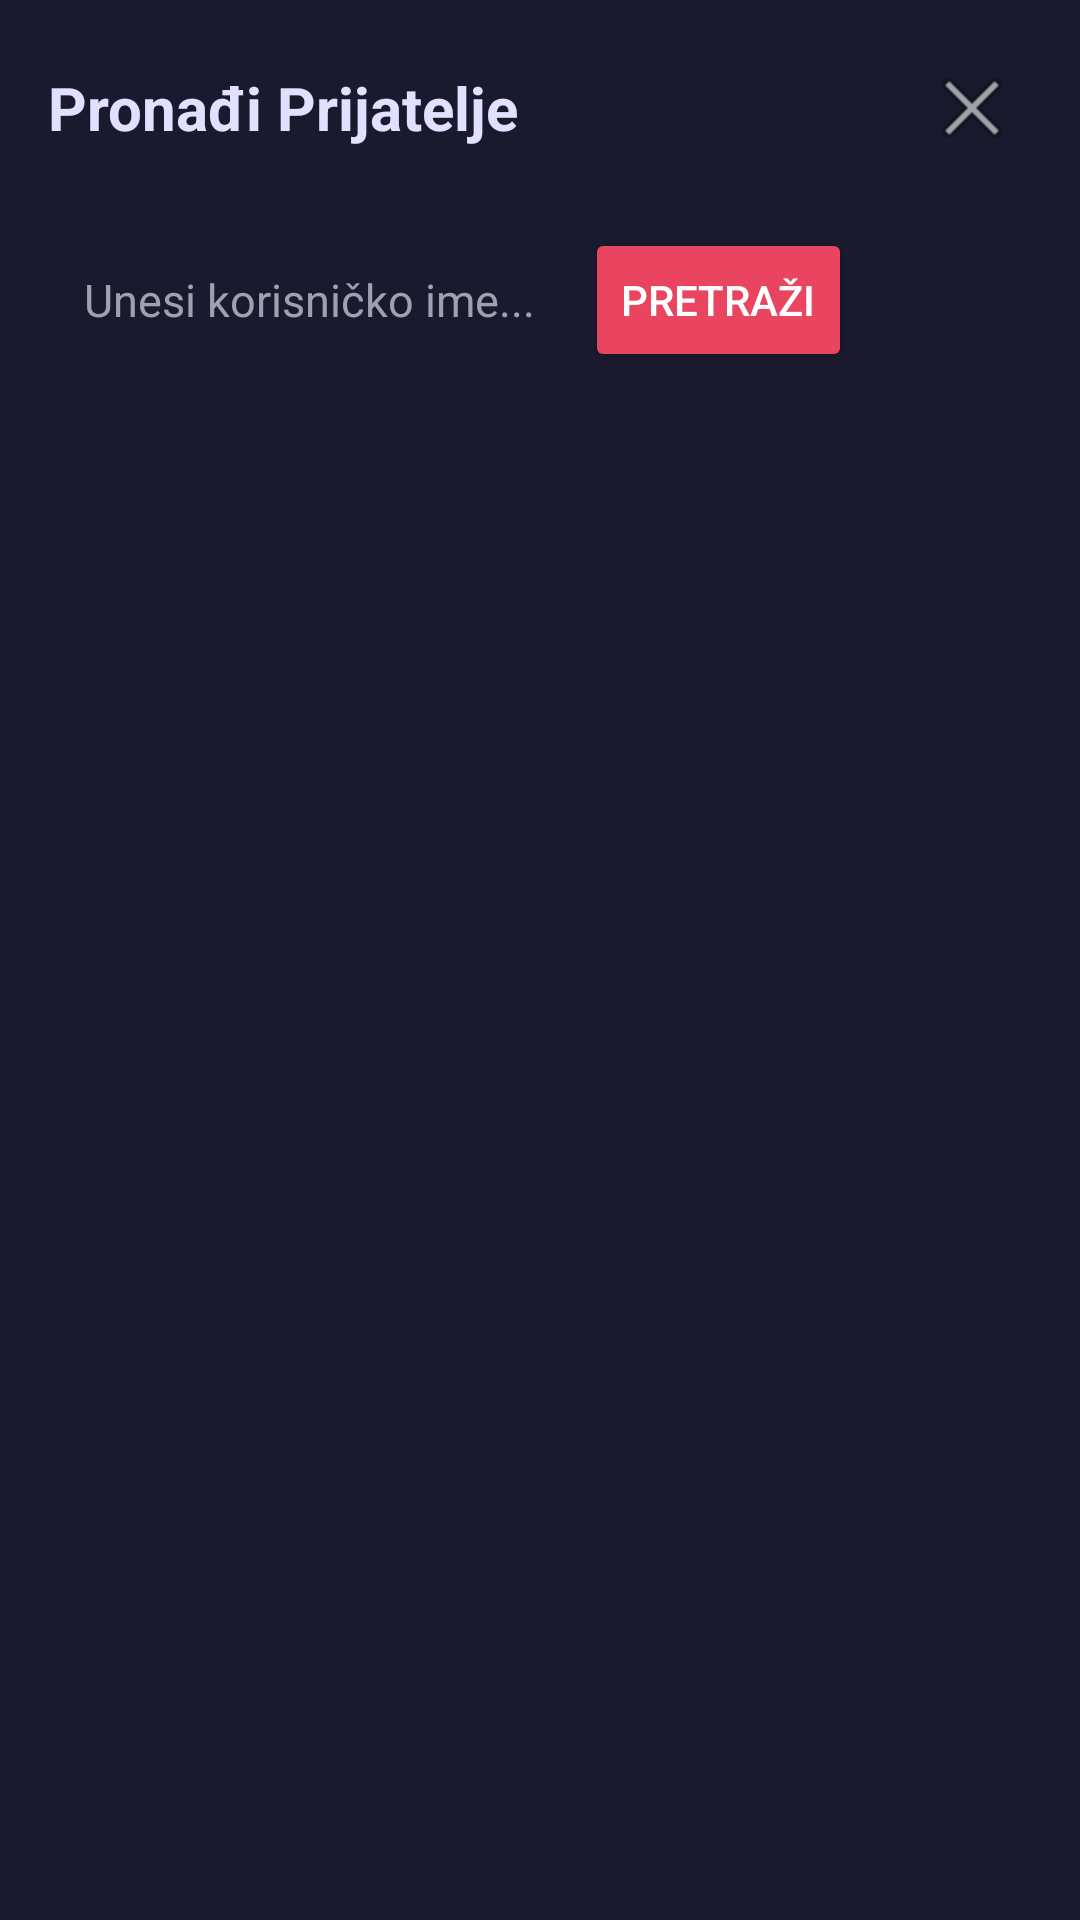

Screen size 1080px×1920px. Icon name, then its box in pixels as (x1, y1, x2, y2):
Zatvori: (945, 81, 999, 135)
